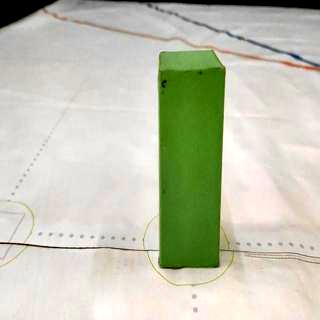greenbox: (157, 50, 223, 268)
